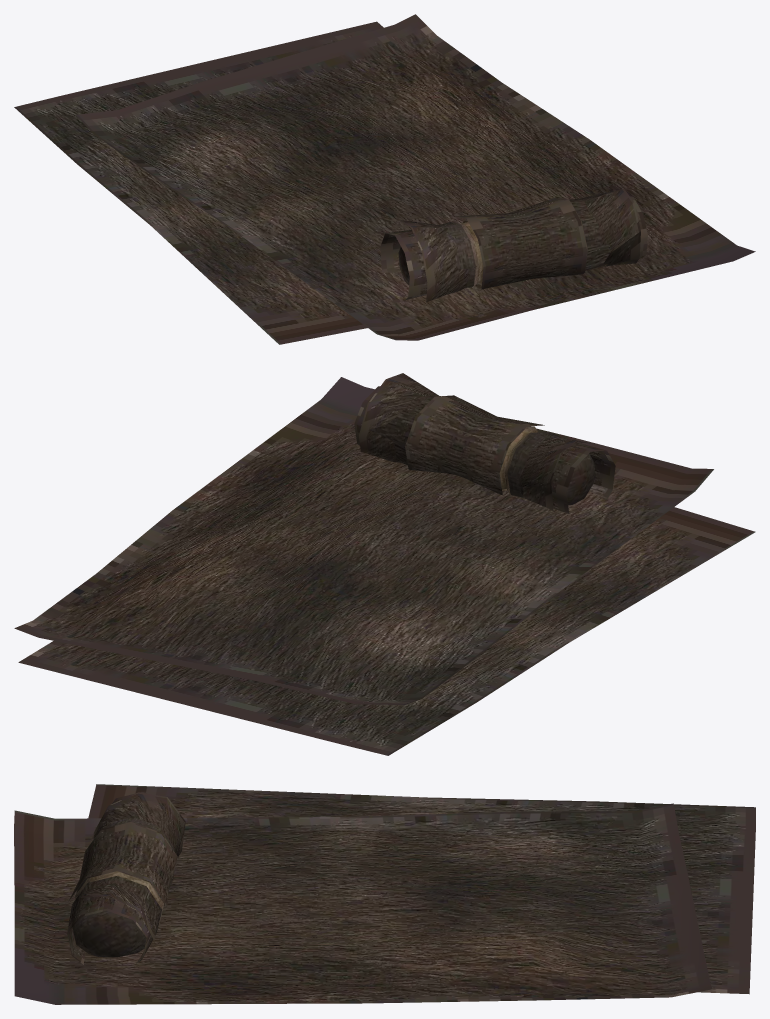
The model's file is eso_gu3_bedding1-transformed.glb.
The picture shows the model from 3 angles, top to bottom: view 1: azimuth 30°, elevation 25°; view 2: azimuth 150°, elevation 25°; view 3: azimuth 270°, elevation 25°; orthographic projection. The views are drawn at different scales.
Visible parts, largest first — view 1: default; view 2: default; view 3: default.
Part boxes in pixels (left/top/right/bottom): default: left=14, top=14, right=755, bottom=344; default: left=14, top=373, right=755, bottom=755; default: left=14, top=784, right=755, bottom=1004.
Bounding box in the file's own units: 3.25 × 0.5629 × 4.47.
1 material, 1 textured.
